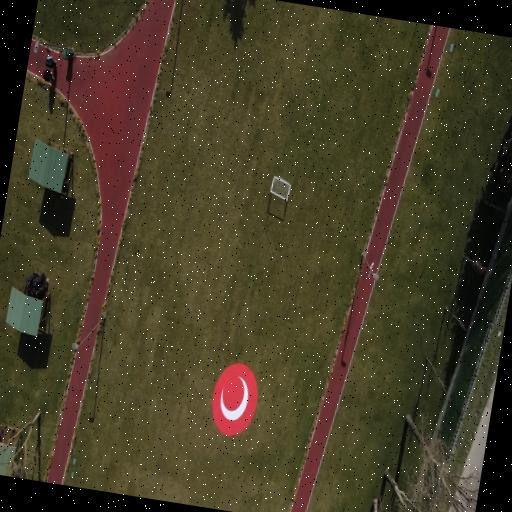UAI: (211, 364, 258, 436)
